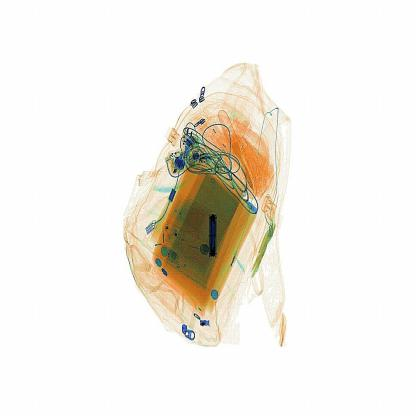scissors: (204, 212, 219, 260)
